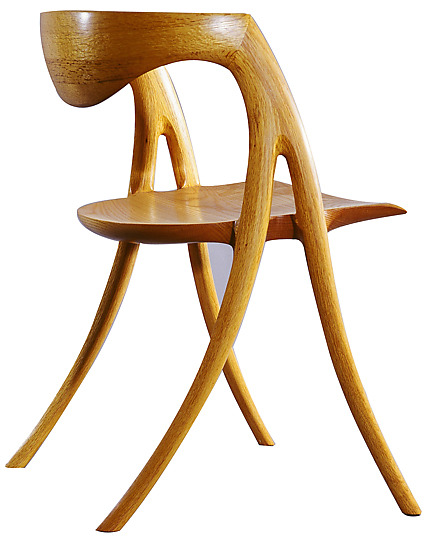chairs: (5, 7, 429, 533)
